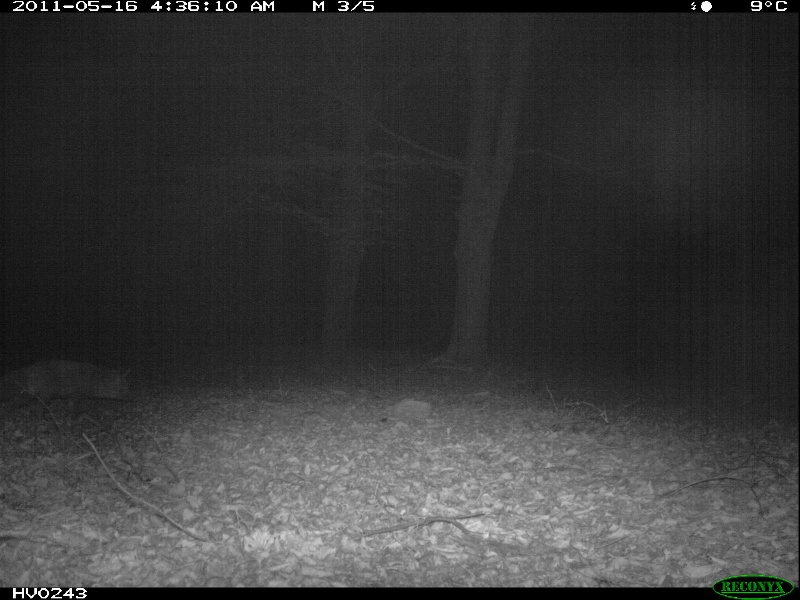fox: (14, 355, 126, 412)
